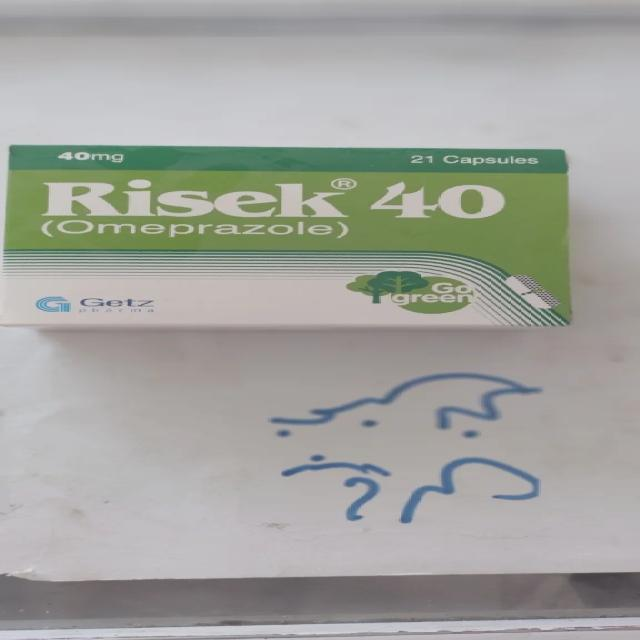drug-name: (41, 178, 512, 220)
